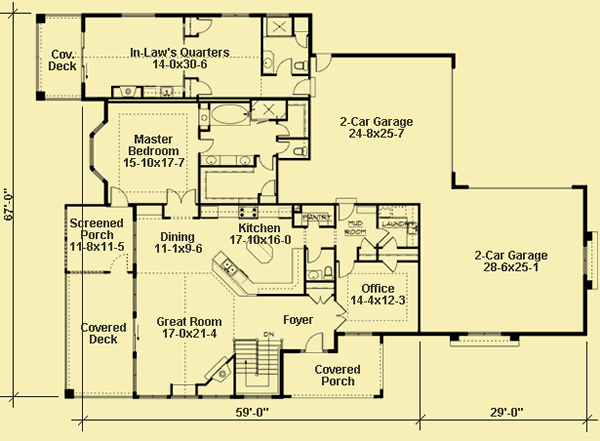door: (332, 299, 352, 331), (166, 189, 202, 206), (289, 78, 316, 96), (107, 186, 130, 207), (334, 258, 357, 279), (312, 53, 332, 76), (303, 333, 327, 352), (257, 178, 278, 197), (197, 16, 215, 38), (254, 155, 276, 173), (337, 202, 356, 222), (307, 292, 336, 305), (304, 244, 322, 263), (196, 79, 215, 97), (195, 137, 215, 153), (374, 226, 390, 244)
stairs: (233, 332, 283, 396)
tub: (211, 102, 252, 130)
twin_sink: (218, 258, 240, 276)
